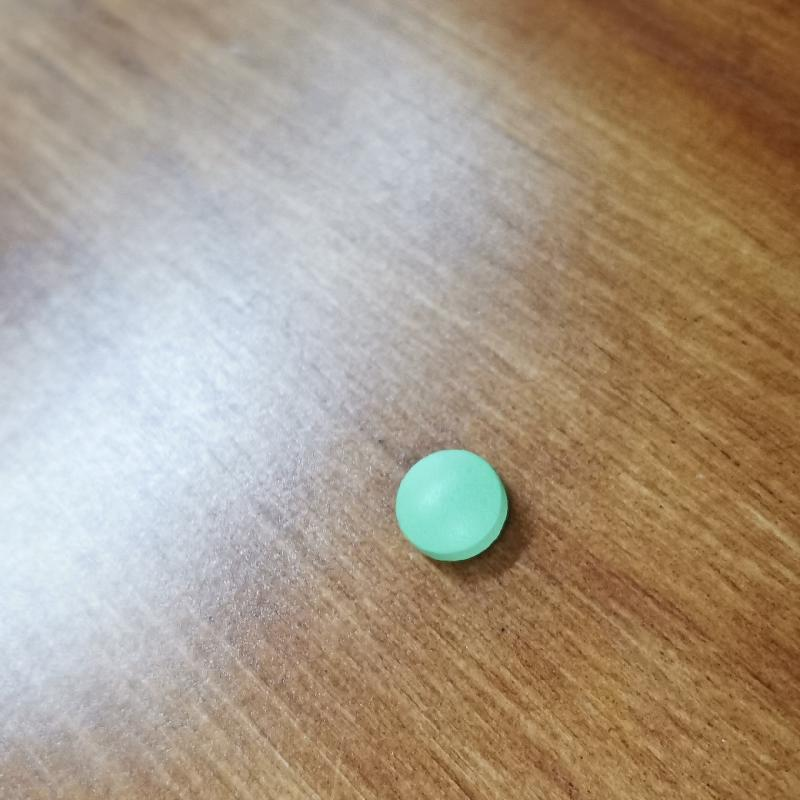pills: (381, 434, 527, 593)
